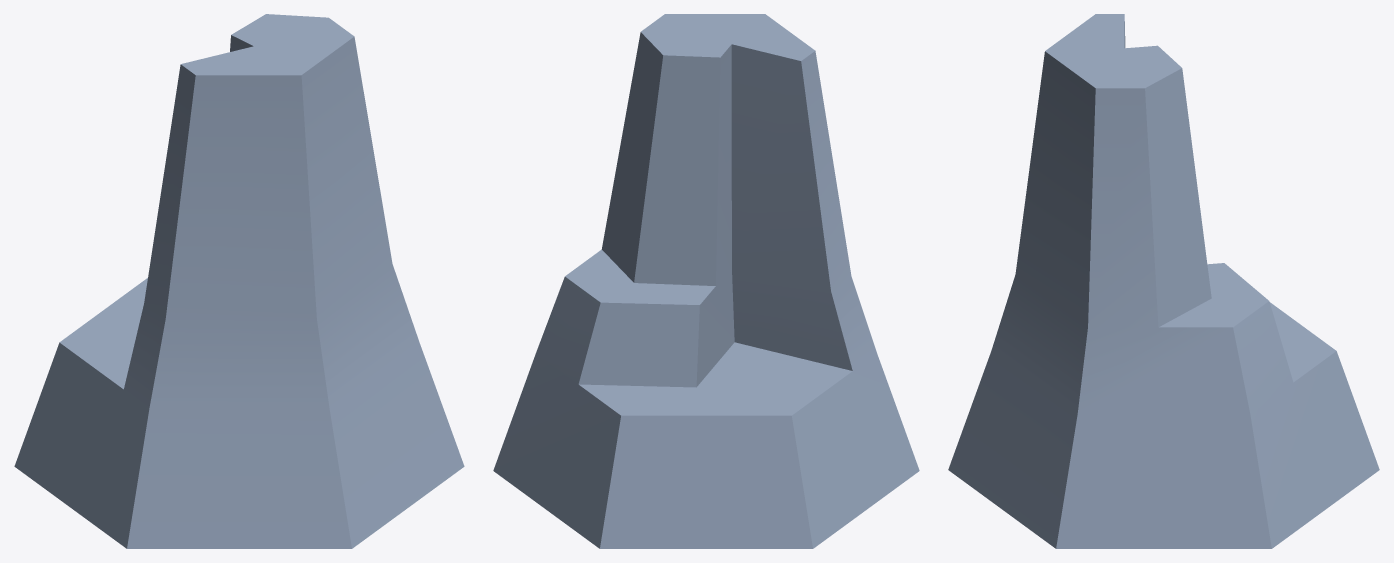
Rendered from rockFormationSmall.fbx.
The picture shows the model from 3 angles, left to right: view 1: azimuth 30°, elevation 25°; view 2: azimuth 150°, elevation 25°; view 3: azimuth 270°, elevation 25°; orthographic projection. The views are drawn at different scales.
Parts seen in each view (by area): view 1: rockFormationSmall; view 2: rockFormationSmall; view 3: rockFormationSmall.
Part boxes in pixels (bbox=[...]): rockFormationSmall: bbox=[14, 14, 464, 548]; rockFormationSmall: bbox=[493, 14, 919, 548]; rockFormationSmall: bbox=[948, 14, 1379, 548].
Bounding box in the file's own units: 5.4 × 6.67 × 6.23.
